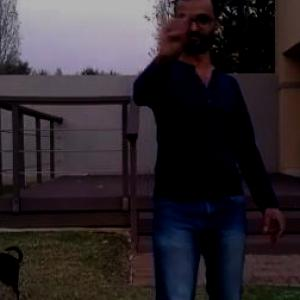takeoff-hand: (150, 0, 198, 56)
